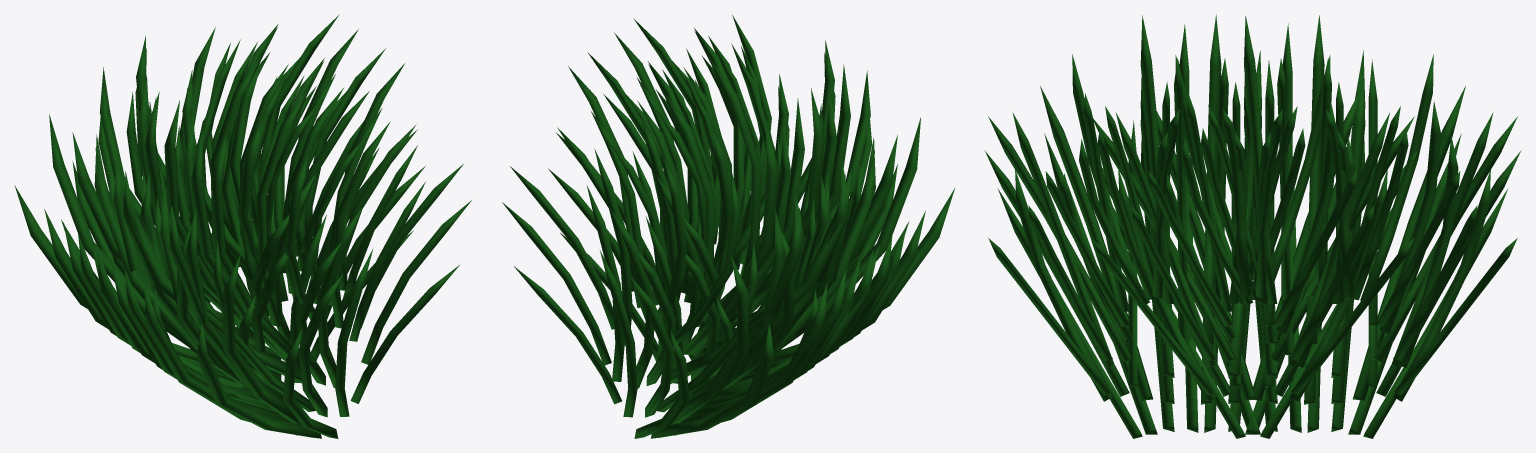
File: seaweed.obj
3 views of the same model, side by side, from view 1: azimuth 30°, elevation 25°; view 2: azimuth 150°, elevation 25°; view 3: azimuth 270°, elevation 25° (orthographic). The views are drawn at different scales.
Visible parts, largest first — view 1: Part1, Part2; view 2: Part2, Part1; view 3: Part2, Part1.
Boxes of the visible parts, x1,y1,x2,y2 form: Part1: (61, 48, 471, 438); Part2: (14, 14, 425, 399); Part2: (502, 48, 909, 438); Part1: (548, 15, 954, 400); Part2: (1088, 15, 1521, 438); Part1: (984, 14, 1417, 438).
Bounding box in the file's own units: 20.14 × 23.81 × 30.18.
